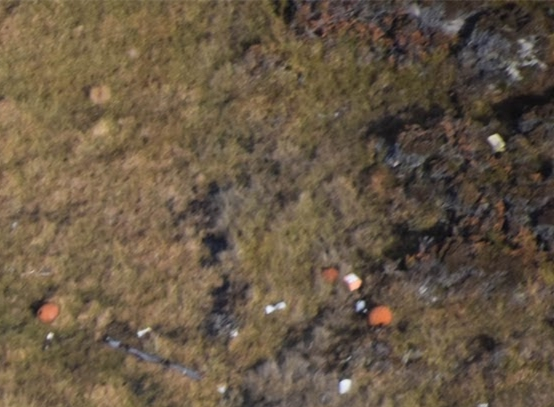straight_bar: (102, 336, 203, 383)
white_in_green: (20, 260, 400, 400), (464, 113, 533, 173)
